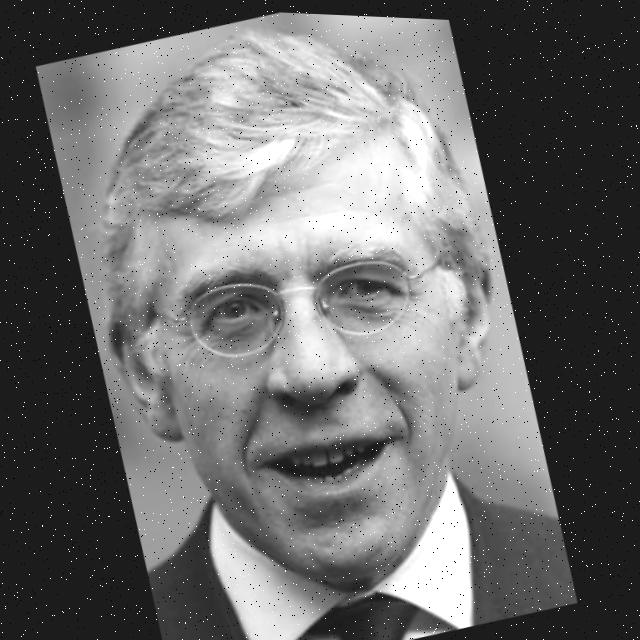face: (105, 106, 543, 618)
